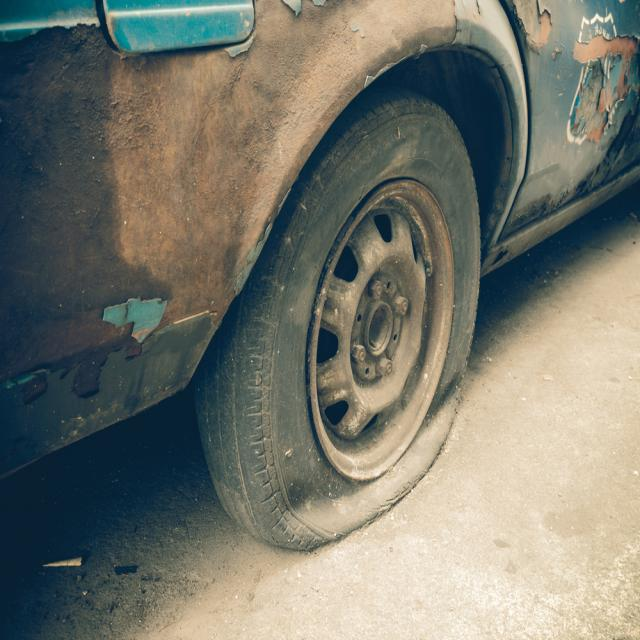tire flat: (196, 87, 482, 553)
